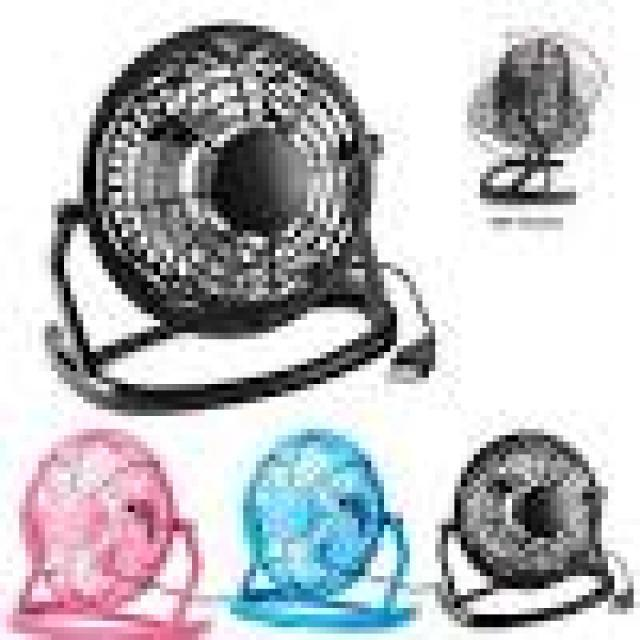fan: (51, 24, 428, 424), (6, 416, 636, 628)
